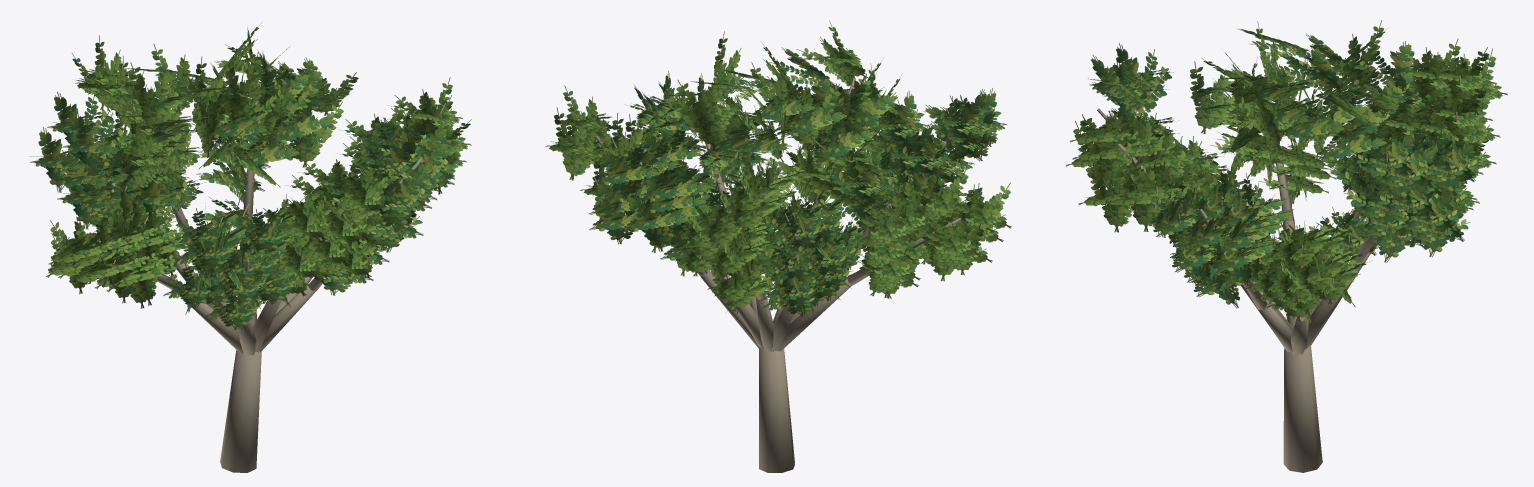
File: banyan.glb
The picture shows the model from 3 angles, left to right: view 1: azimuth 30°, elevation 25°; view 2: azimuth 150°, elevation 25°; view 3: azimuth 270°, elevation 25°; orthographic projection. The views are drawn at different scales.
Visible parts, largest first — view 1: banyan_landscape_foliage, banyan_landscape_bark; view 2: banyan_landscape_foliage, banyan_landscape_bark; view 3: banyan_landscape_foliage, banyan_landscape_bark.
Part boxes in pixels (bbox=[...]): banyan_landscape_foliage: bbox=[30, 23, 471, 334]; banyan_landscape_bark: bbox=[83, 64, 445, 472]; banyan_landscape_foliage: bbox=[545, 20, 1011, 319]; banyan_landscape_bark: bbox=[574, 77, 961, 472]; banyan_landscape_foliage: bbox=[1066, 20, 1507, 328]; banyan_landscape_bark: bbox=[1097, 75, 1460, 472].
Size of the model in its own units: 9.14 by 7.97 by 7.75.
2 materials, 1 textured.
